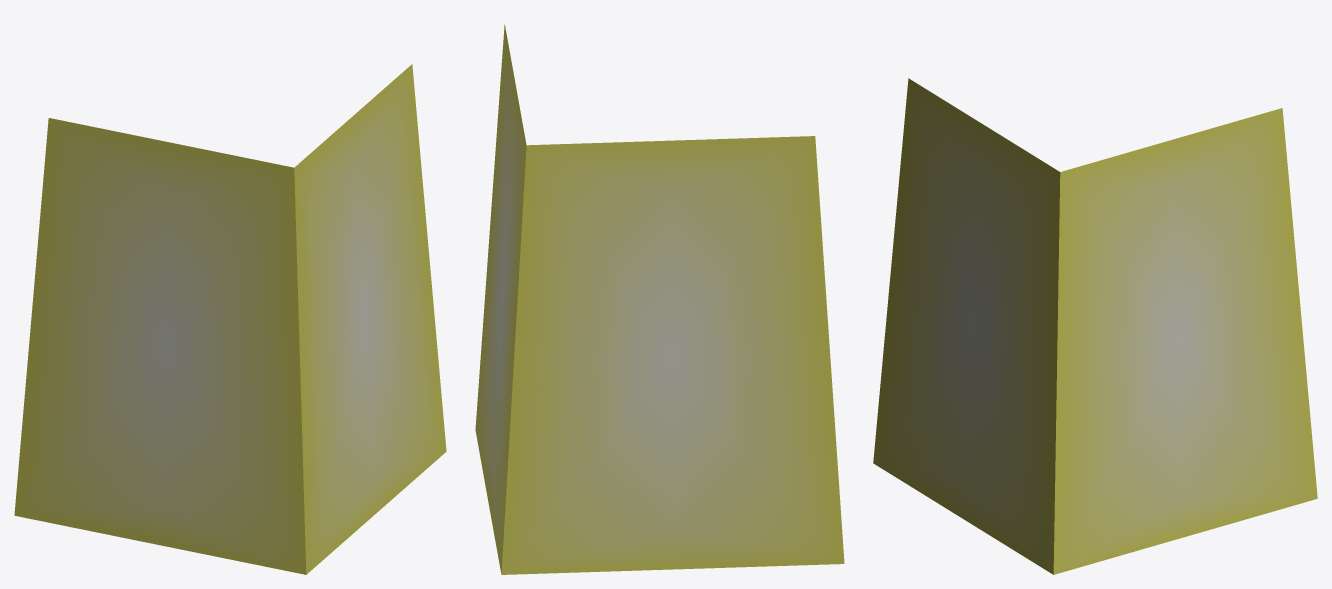
The model's file is LanternLightFrontLeft_2.glb.
3 renders of one model, left to right at view 1: azimuth 30°, elevation 25°; view 2: azimuth 150°, elevation 25°; view 3: azimuth 270°, elevation 25°, orthographic. The views are drawn at different scales.
Visible parts, largest first — view 1: LanternLightFrontLeft; view 2: LanternLightFrontLeft; view 3: LanternLightFrontLeft.
Boxes of the visible parts, x1,y1,x2,y2 form: LanternLightFrontLeft: (14, 64, 446, 574); LanternLightFrontLeft: (475, 24, 844, 574); LanternLightFrontLeft: (873, 78, 1317, 574).
Bounding box in the file's own units: 0.836 × 0.8052 × 0.836.
